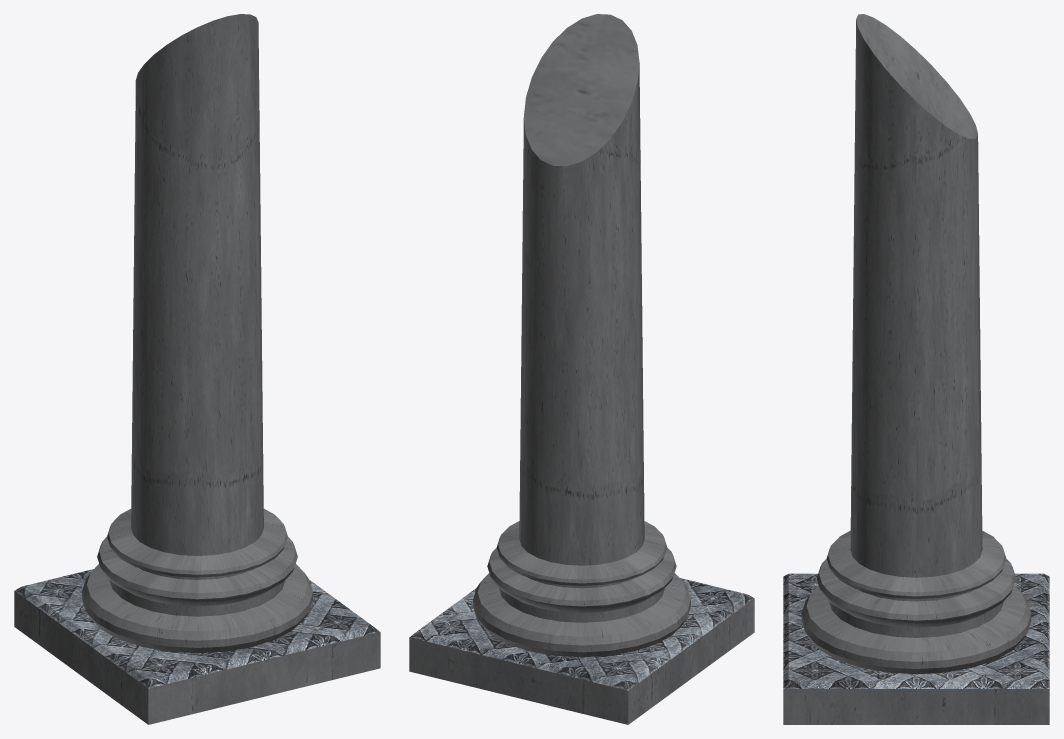
The model's file is SM_Temple_Column_Cut.fbx.
The picture shows the model from 3 angles, left to right: view 1: azimuth 30°, elevation 25°; view 2: azimuth 150°, elevation 25°; view 3: azimuth 270°, elevation 25°; orthographic projection. The views are drawn at different scales.
Visible parts, largest first — view 1: SM_Temple_Column_Cut; view 2: SM_Temple_Column_Cut; view 3: SM_Temple_Column_Cut.
Boxes of the visible parts, bbox=[...] form: SM_Temple_Column_Cut: bbox=[14, 14, 380, 724]; SM_Temple_Column_Cut: bbox=[409, 14, 754, 724]; SM_Temple_Column_Cut: bbox=[783, 14, 1049, 724].
Size of the model in its own units: 184 by 495 by 184.
